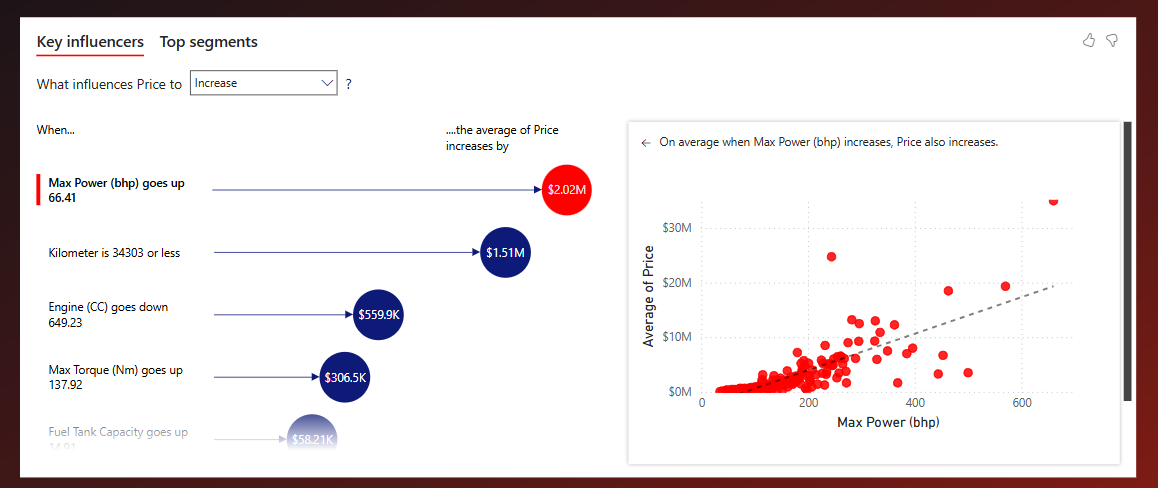

This screenshot's page, from the dashboard's own definition file:
{"tool":"powerbi","page":{"name":"Key Influences","canvas":[1280,720],"ordinal":1},"visuals":[{"type":"keyDriversVisual","fields":{"Target":["Vehicles_Dataset.Price"],"ExplainBy":["Vehicles_Dataset.Engine (CC)","Vehicles_Dataset.Kilometer","Vehicles_Dataset.Max Power (bhp)","Vehicles_Dataset.Max Torque (Nm)","Vehicles_Dataset.Fuel Tank Capacity"]},"box":[66.7,124.4,1144.9,471.8],"z":3}]}

Visuals, with their boxes on the page's 1280x720 design canvas (x1, y1, x2, y2). These are canvas units, not pixel positions in the 1158x488 screenshot, which may show the page scaled, cropped or inside an application window:
keyDriversVisual - Vehicles_Dataset.Price x Vehicles_Dataset.Engine (CC): [left=67, top=124, right=1212, bottom=596]
